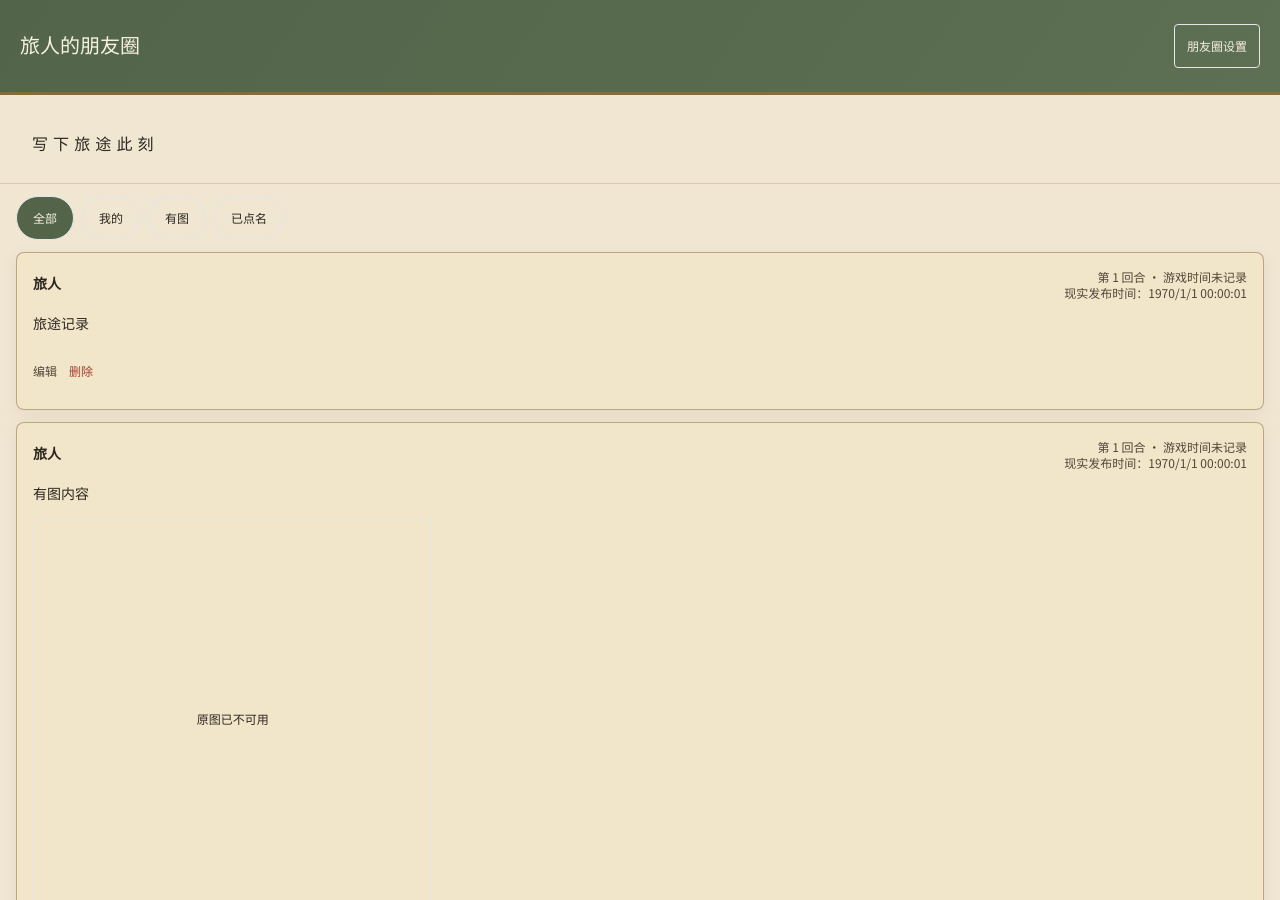
Test case: image_and_mentioned_filters_only_change_visible_posts
What coordinates should you click on to do the following:
click the button "有图"
I would click on:
 (177, 218)
Its box is [148, 196, 206, 240].
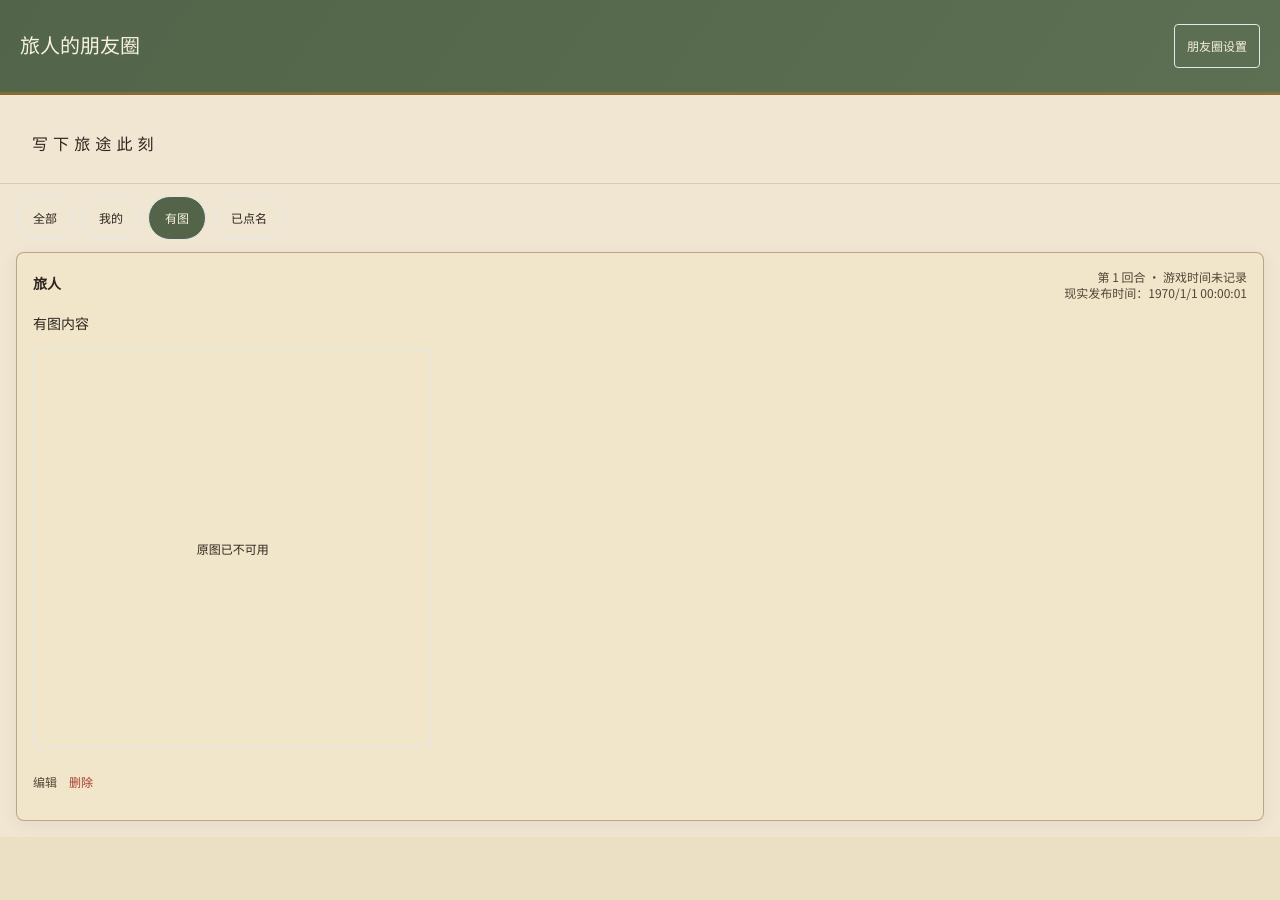
Expected: the text "有图内容" is shown, [33, 313, 89, 333]
What coordinates should you click on to do the following:
click the button "已点名"
I would click on:
 (249, 218)
Its box is [214, 196, 284, 240].
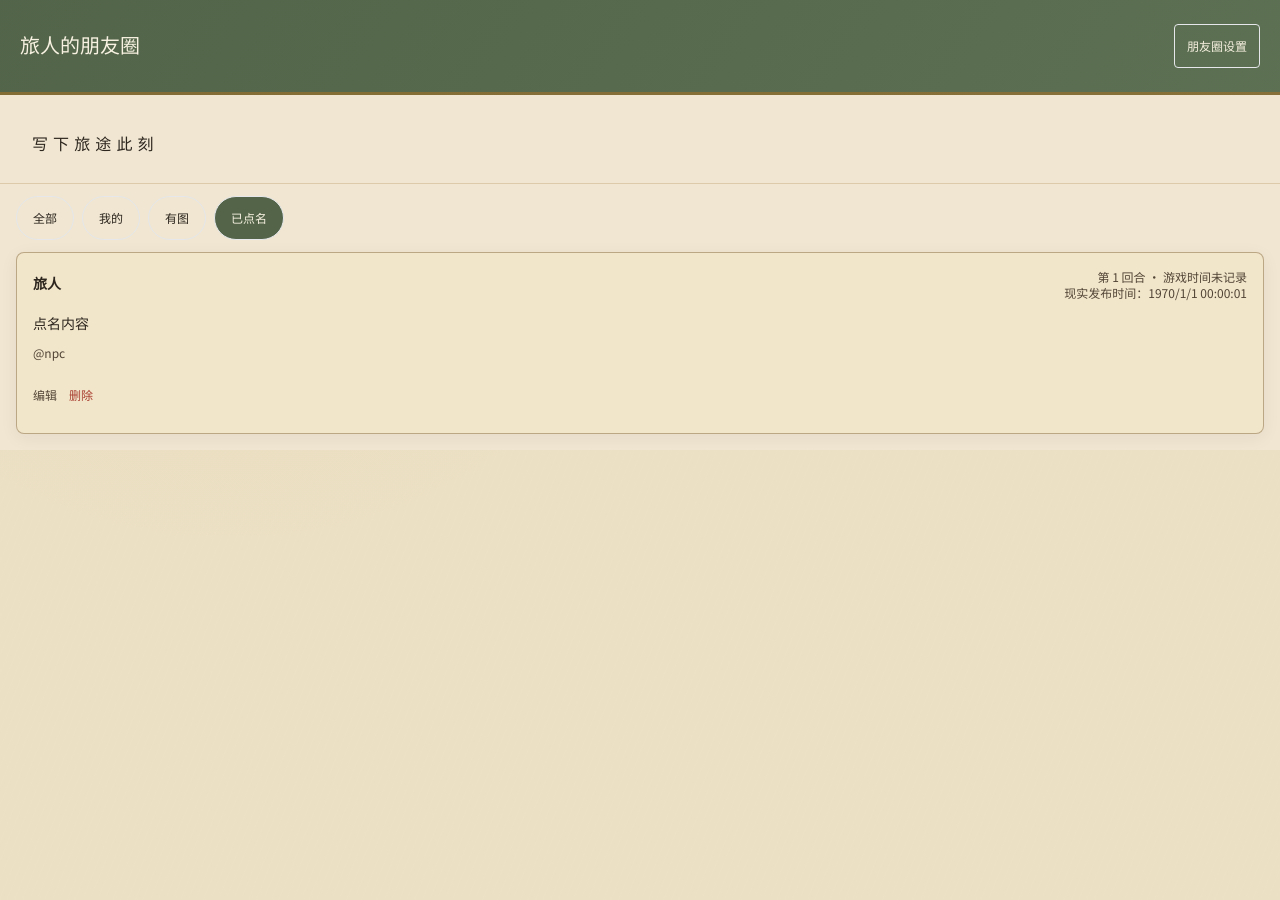
Expected: the text "点名内容" is shown, [33, 313, 89, 333]
Expected: the text "有图内容" is gone
What coordinates should you click on to do the following:
click the button "全部"
I would click on:
 (45, 218)
Its box is [16, 196, 74, 240].
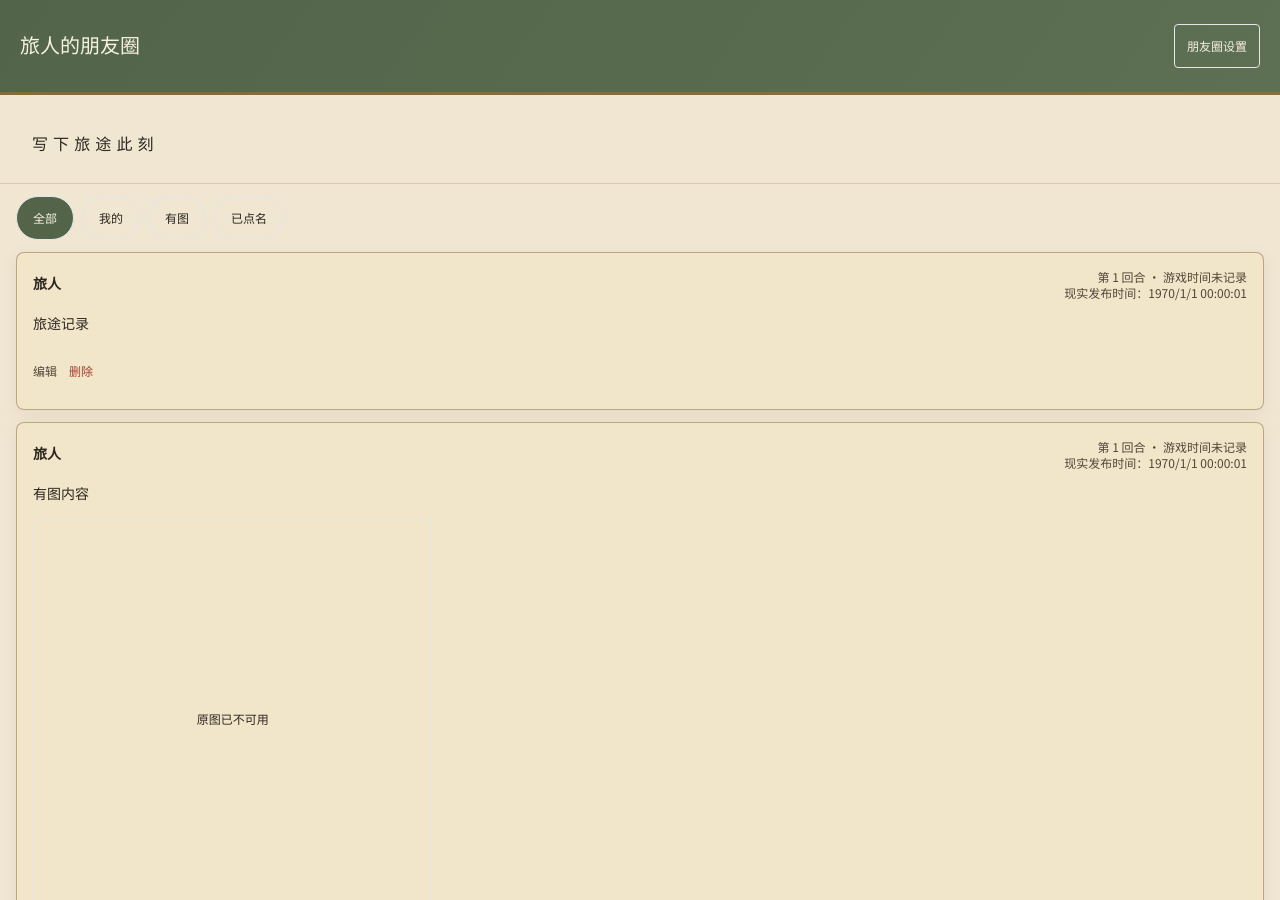
Expected: the text "旅途记录" is shown, [33, 313, 89, 333]
